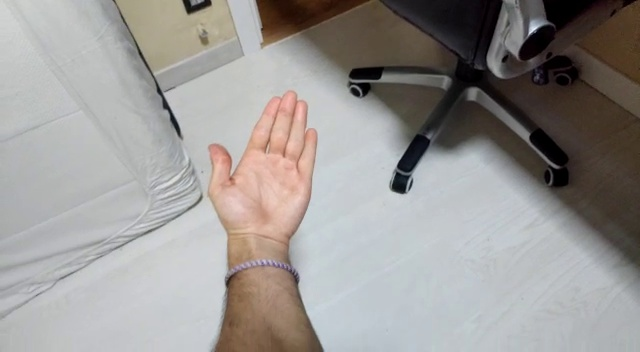Palm: (203, 83, 318, 241)
